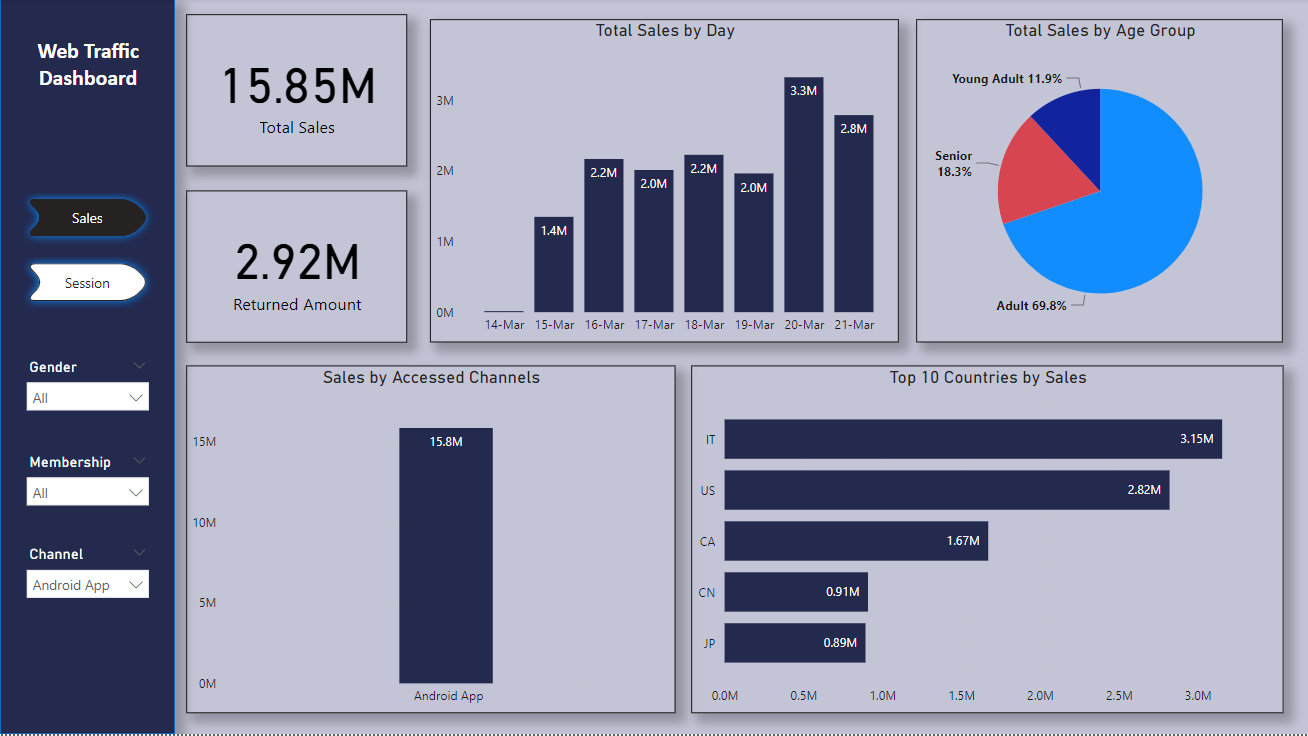

The dashboard page shown, as its layout file describes it:
{"tool":"powerbi","page":{"name":"Sales","canvas":[1280,720],"ordinal":0},"visuals":[{"type":"clusteredBarChart","title":"Top 10 Countries by Sales","fields":{"Category":["E-commerce Website Logs.country"],"Y":["E-commerce Website Logs.Total Sales"]},"box":[675.6,359.8,579.3,340.2],"z":0},{"type":"clusteredColumnChart","title":"Sales by Accessed Channels","fields":{"Y":["E-commerce Website Logs.Total Sales"],"Category":["E-commerce Website Logs.accessed_From"]},"box":[181.7,359.8,478,340.2],"z":1000},{"type":"shape","box":[0,0,171.1,720],"z":2000},{"type":"textbox","box":[23.2,34.1,125.6,70.7],"z":3000},{"type":"pageNavigator","box":[15.9,188.3,139.4,117.4],"z":4000},{"type":"slicer","fields":{"Values":["E-commerce Website Logs.gender"]},"box":[15.6,346.9,139.4,80],"z":5000},{"type":"slicer","fields":{"Values":["E-commerce Website Logs.membership"]},"box":[15.6,440.6,139.4,75.6],"z":6000},{"type":"slicer","fields":{"Values":["E-commerce Website Logs.accessed_From"]},"box":[15.6,530.6,139.4,76.2],"z":7000},{"type":"card","fields":{"Values":["E-commerce Website Logs.Total Sales"]},"box":[181.7,15.9,215.9,148.8],"z":8000},{"type":"card","fields":{"Values":["Sum(E-commerce Website Logs.returned_amount)"]},"box":[181.7,187.8,215.9,148.8],"z":9000},{"type":"clusteredColumnChart","fields":{"Category":["Calender.Day"],"Y":["E-commerce Website Logs.Total Sales"]},"box":[420.7,20.7,458.5,315.9],"z":10000},{"type":"pieChart","fields":{"Category":["E-commerce Website Logs.Age Group"],"Y":["E-commerce Website Logs.Total Sales"]},"box":[896.3,20.7,358.5,315.9],"z":11000}]}

Visuals, with their boxes in screenshot pixels (x1, y1, x2, y2), scaled from the page's 1280x720 canvas onto the 1308x736 screenshot:
"Top 10 Countries by Sales" clusteredBarChart: (x1=690, y1=368, x2=1282, y2=716)
"Sales by Accessed Channels" clusteredColumnChart: (x1=186, y1=368, x2=674, y2=716)
shape: (x1=0, y1=0, x2=175, y2=735)
textbox: (x1=24, y1=35, x2=152, y2=107)
pageNavigator: (x1=16, y1=192, x2=159, y2=312)
slicer - E-commerce Website Logs.gender: (x1=16, y1=355, x2=158, y2=436)
slicer - E-commerce Website Logs.membership: (x1=16, y1=450, x2=158, y2=528)
slicer - E-commerce Website Logs.accessed_From: (x1=16, y1=542, x2=158, y2=620)
card - E-commerce Website Logs.Total Sales: (x1=186, y1=16, x2=406, y2=168)
card - Sum(E-commerce Website Logs.returned_amount): (x1=186, y1=192, x2=406, y2=344)
clusteredColumnChart - Calender.Day x E-commerce Website Logs.Total Sales: (x1=430, y1=21, x2=898, y2=344)
pieChart - E-commerce Website Logs.Age Group x E-commerce Website Logs.Total Sales: (x1=916, y1=21, x2=1282, y2=344)
